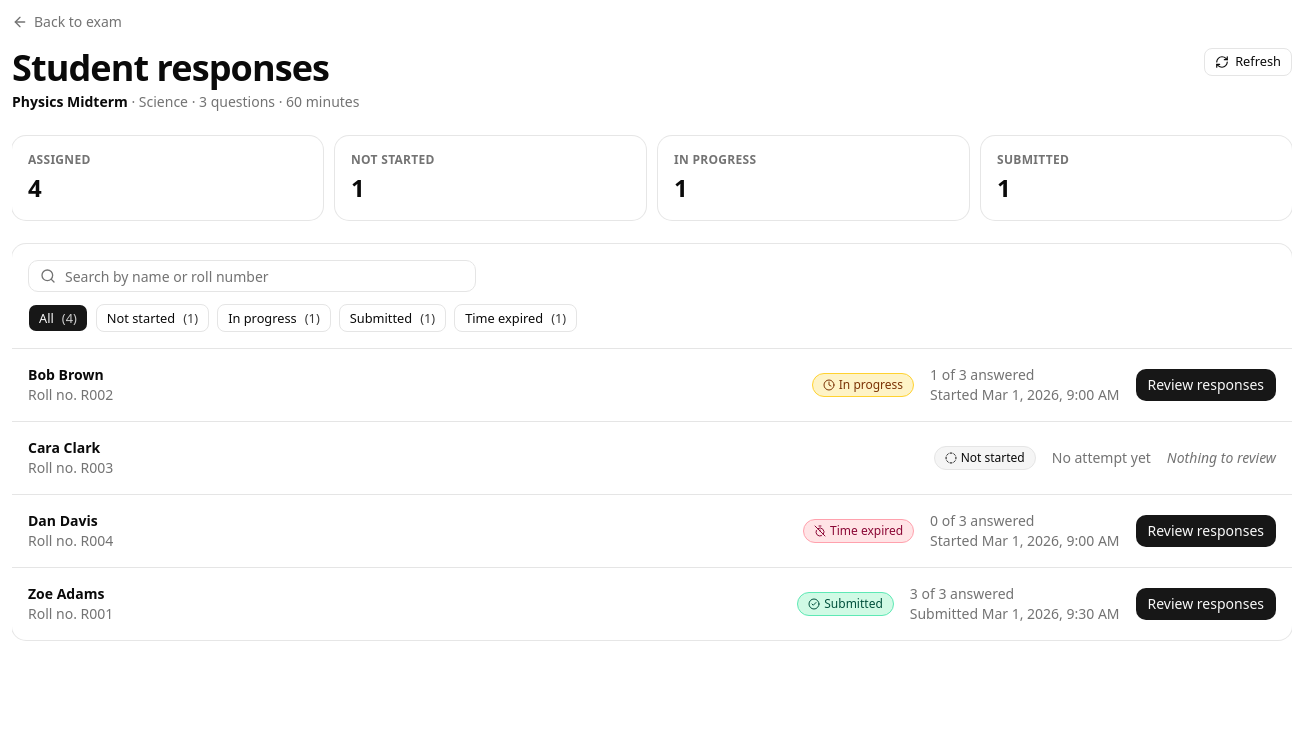
Test: ResponseOverview › ignores a slow response that was superseded by a newer search
The width and height of the screenshot is (1304, 732).
Expected: the text "Zoe Adams" is shown, left=28, top=584, right=113, bottom=604
Type "old" into the search field named "Search students". click: {"x": 252, "y": 276}
box: left=28, top=260, right=476, bottom=292
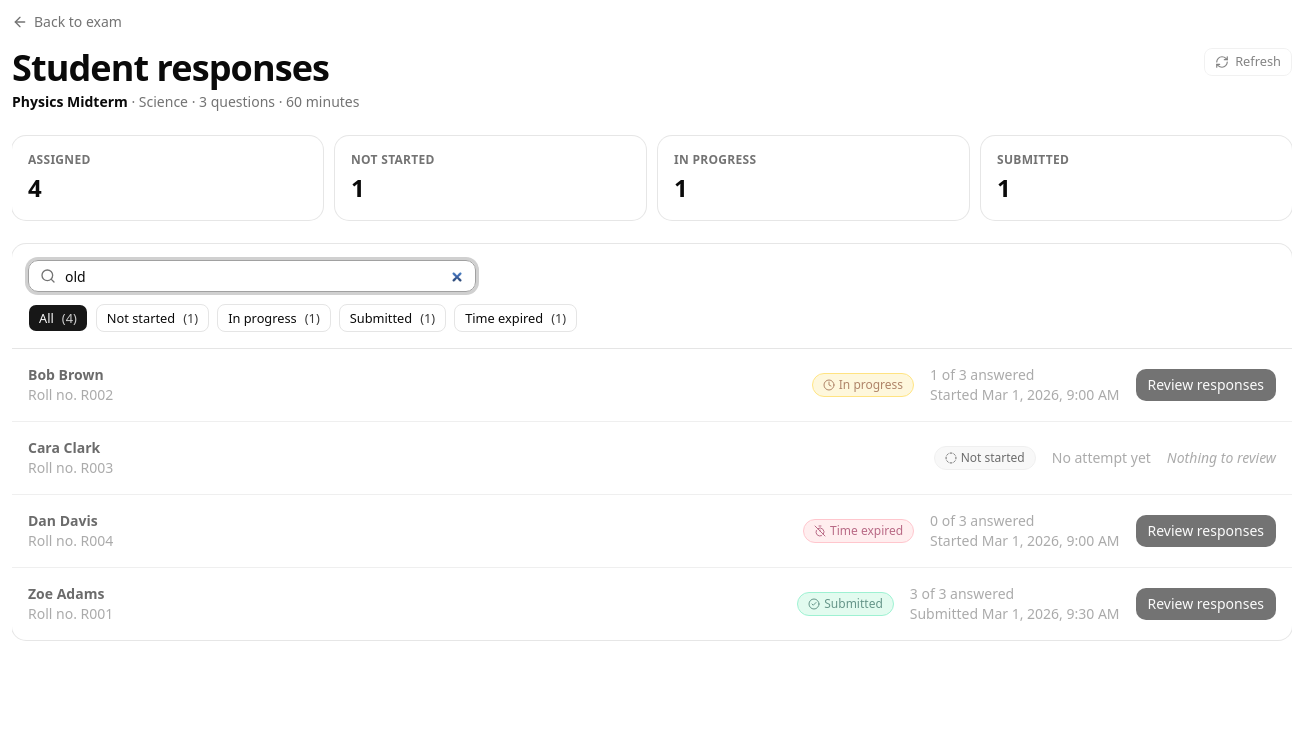
Replace the text in the search field named "Search students" with "new". click: {"x": 252, "y": 276}
box: left=28, top=260, right=476, bottom=292
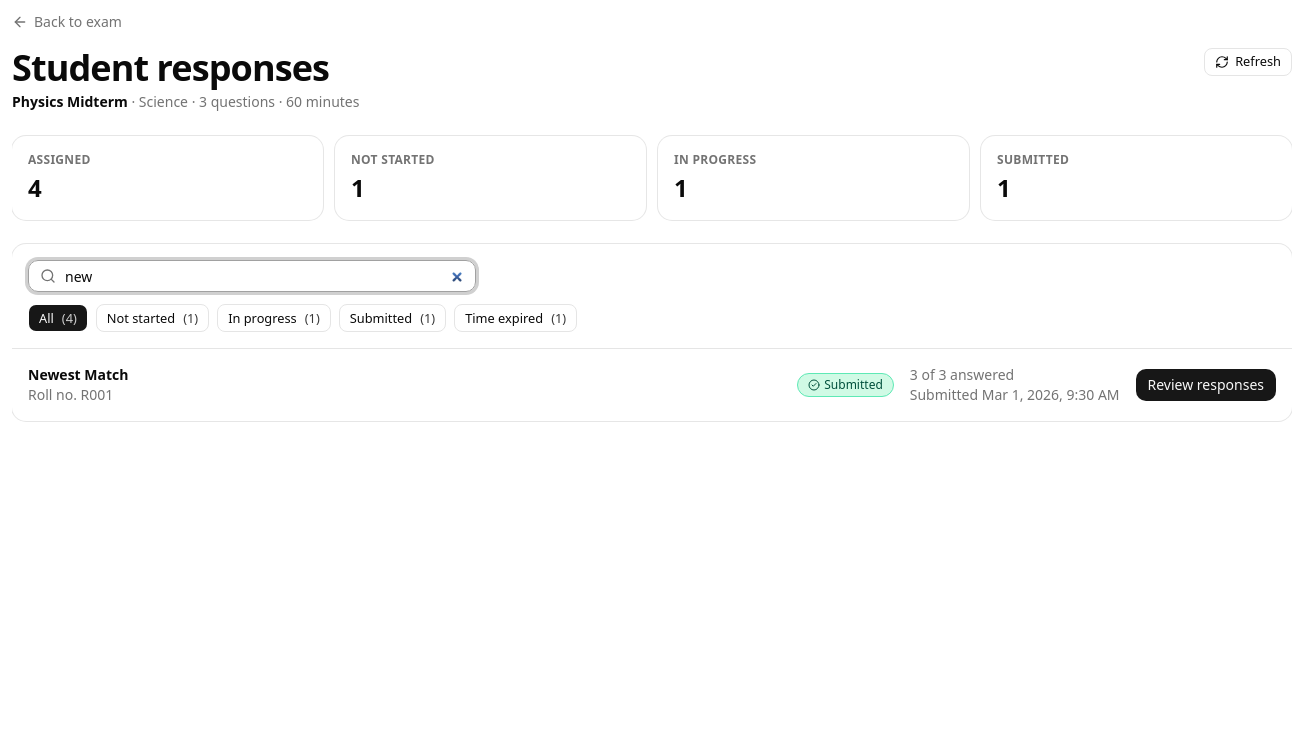
Result: the text "Newest Match" is shown at left=28, top=365, right=128, bottom=385
